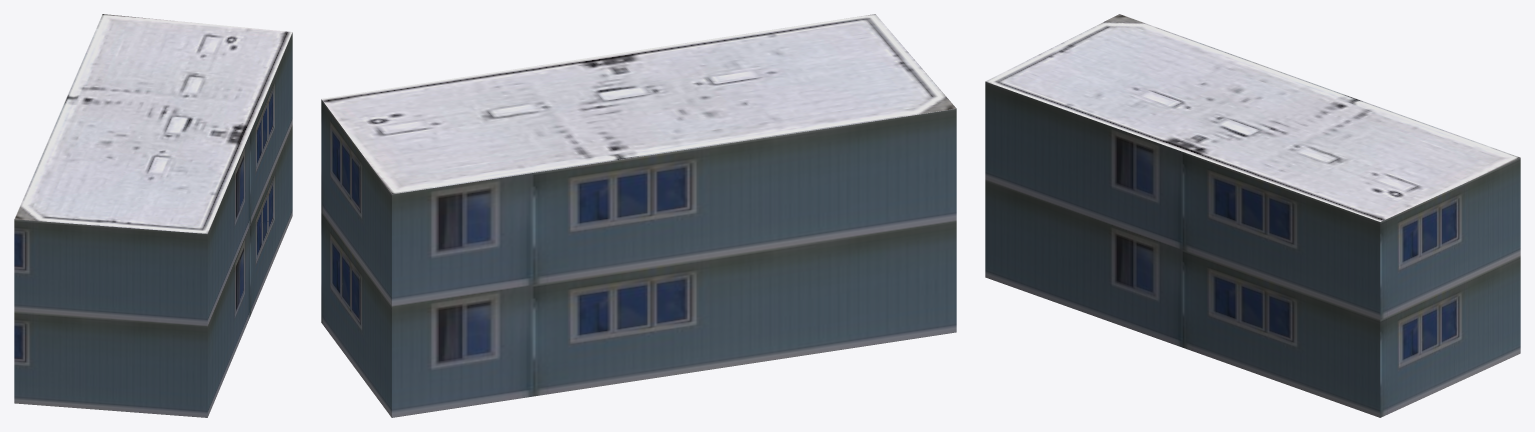
File: RelTex__14.fbx
3 renders of one model, left to right at view 1: azimuth 30°, elevation 25°; view 2: azimuth 150°, elevation 25°; view 3: azimuth 270°, elevation 25°, orthographic. The views are drawn at different scales.
Visible parts, largest first — view 1: CityEngineMaterial_3_m, CityEngineMaterial_23_m; view 2: CityEngineMaterial_3_m, CityEngineMaterial_23_m; view 3: CityEngineMaterial_3_m, CityEngineMaterial_23_m.
Part boxes in pixels (x1=…): CityEngineMaterial_3_m: x1=14, y1=32, x2=292, y2=417; CityEngineMaterial_23_m: x1=14, y1=14, x2=292, y2=233; CityEngineMaterial_3_m: x1=321, y1=99, x2=956, y2=417; CityEngineMaterial_23_m: x1=321, y1=14, x2=956, y2=194; CityEngineMaterial_3_m: x1=985, y1=81, x2=1520, y2=417; CityEngineMaterial_23_m: x1=985, y1=14, x2=1520, y2=221.
Size of the model in its own units: 13.67 by 6 by 14.87.
2 materials, 2 textured.
